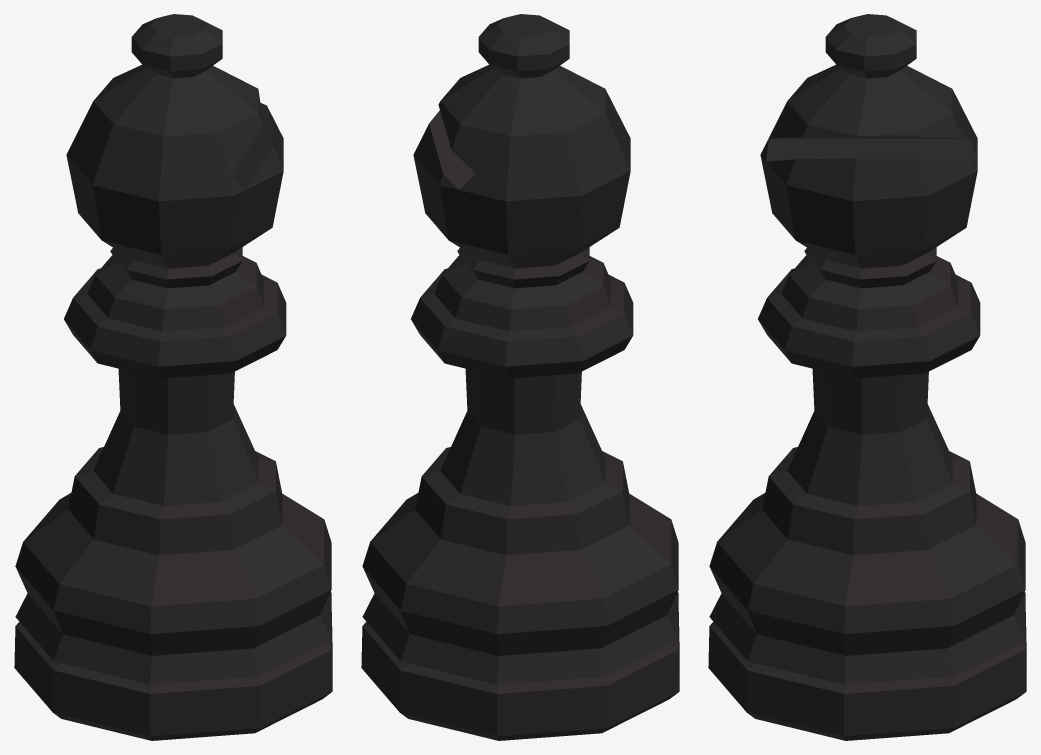
File: obishop.FBX
3 views of the same model, side by side, from view 1: azimuth 30°, elevation 25°; view 2: azimuth 150°, elevation 25°; view 3: azimuth 270°, elevation 25° (orthographic).
Parts seen in each view (by area): view 1: Black_Bishop_mesh; view 2: Black_Bishop_mesh; view 3: Black_Bishop_mesh.
Boxes of the visible parts, x1=… form: Black_Bishop_mesh: x1=14, y1=14, x2=332, y2=740; Black_Bishop_mesh: x1=361, y1=14, x2=679, y2=740; Black_Bishop_mesh: x1=708, y1=14, x2=1026, y2=740.
Bounding box in the file's own units: 2.95 × 2.9 × 6.56.
Materials: 1 (1 with a texture image).
